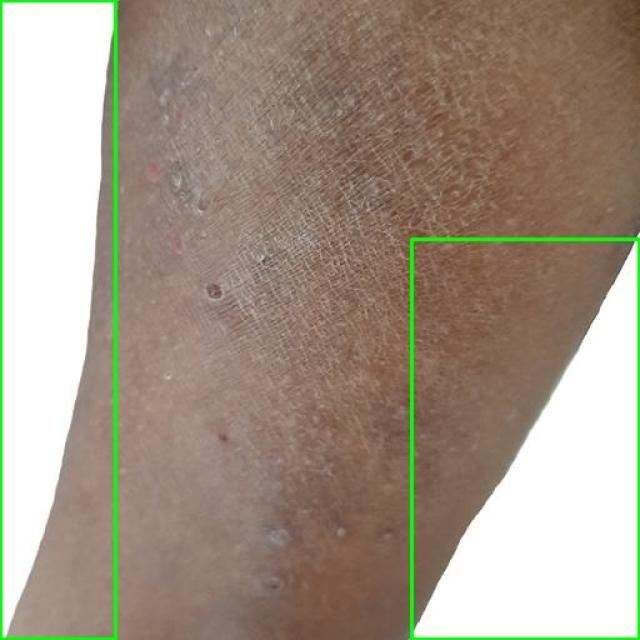Contact Dermatitis: (411, 239, 639, 639), (0, 0, 115, 639)
